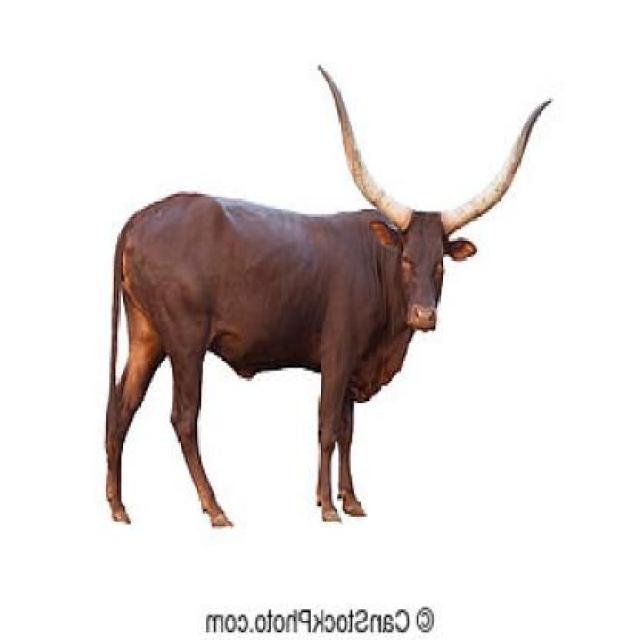Cow: (100, 48, 555, 537)
